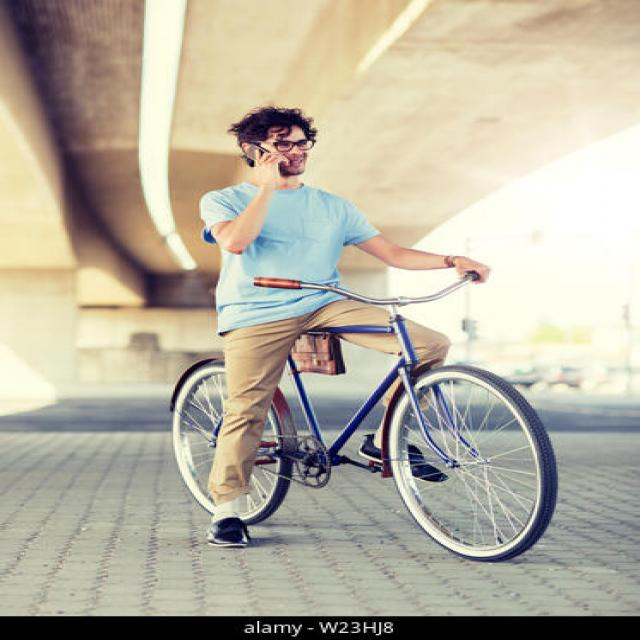Not Wearing Helmet: (250, 66, 326, 186)
Usage Of Phone While Riding: (181, 105, 395, 254)
